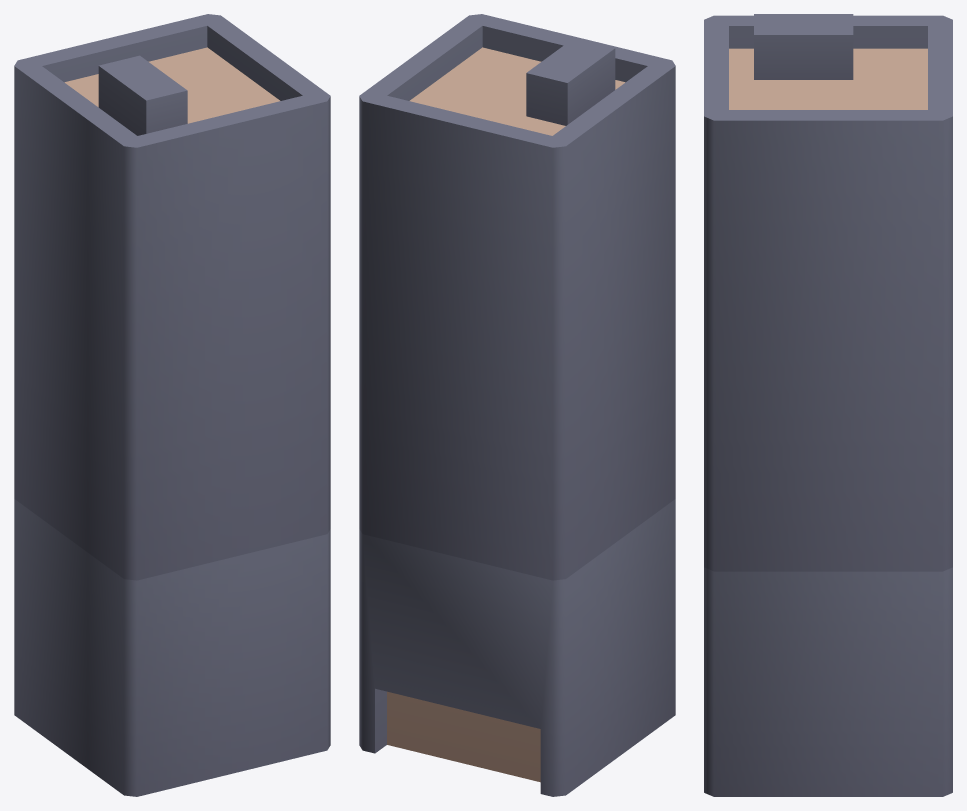
3 renders of one model, left to right at view 1: azimuth 30°, elevation 25°; view 2: azimuth 150°, elevation 25°; view 3: azimuth 270°, elevation 25°, orthographic. The views are drawn at different scales.
Parts seen in each view (by area): view 1: low-detail-building-k; view 2: low-detail-building-k; view 3: low-detail-building-k.
Boxes of the visible parts, x1,y1,x2,y2 form: low-detail-building-k: (14,14,330,796); low-detail-building-k: (359,14,675,796); low-detail-building-k: (704,14,952,796).
Size of the model in its own units: 0.5 by 1.55 by 0.5.
1 material, 1 textured.
